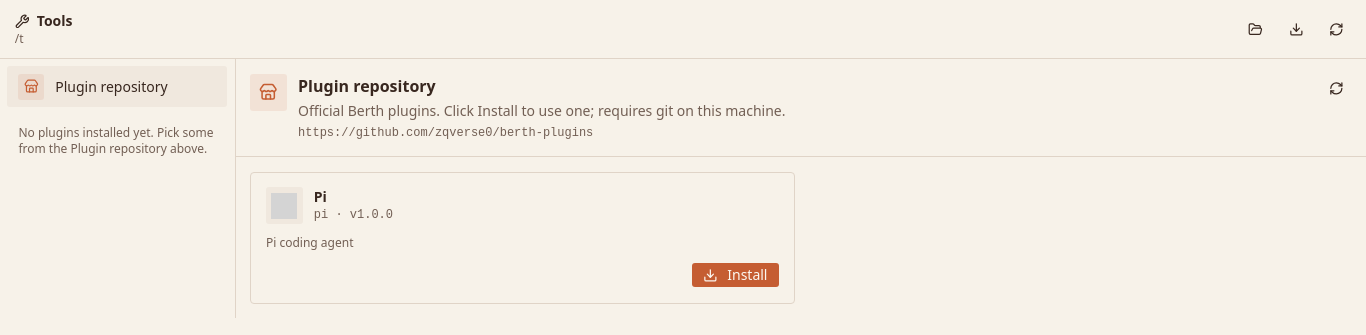
Test case: ToolsSettingsPage › opens the plugin repository when nothing is installed and installs from it
Expected: the text "Pi coding agent" is shown, [266,234,354,251]
Click the button "Install" at (735, 275), box [691,262,780,288]
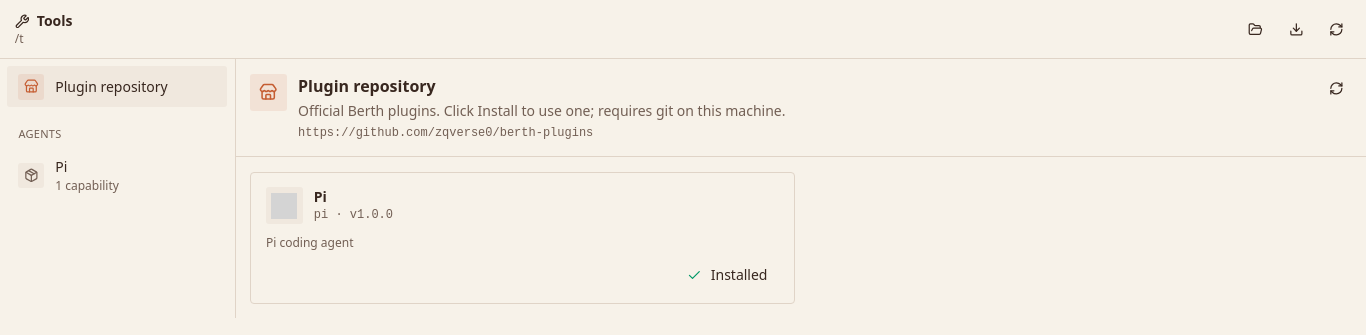
Expected: the button "Installed" is shown, [675,262,780,288]
